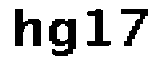1: (82, 8, 115, 52)
7: (118, 6, 151, 50)
g: (45, 15, 78, 60)
h: (13, 6, 43, 50)
